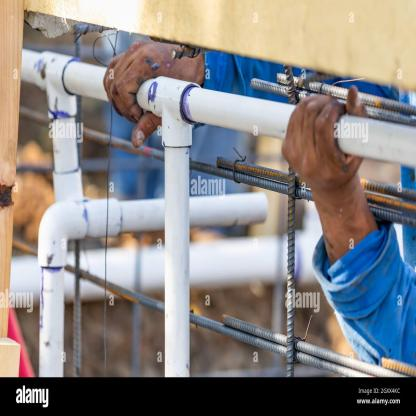PVC: (134, 78, 296, 377), (20, 47, 164, 378), (337, 115, 415, 167), (190, 192, 270, 225)
